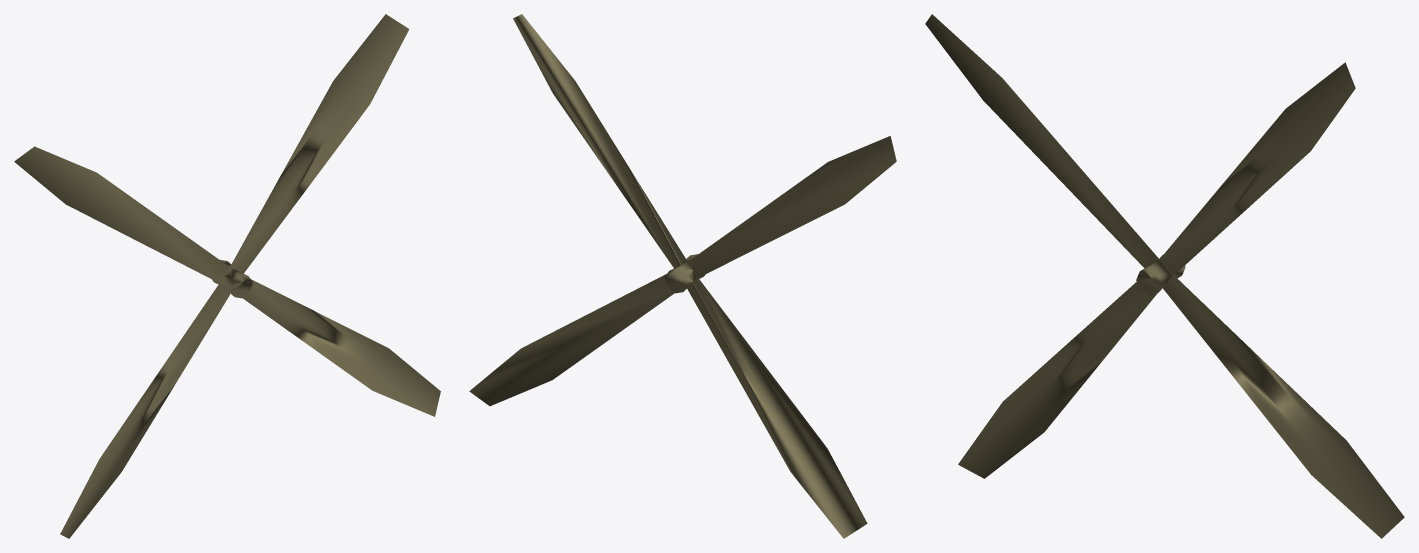
The model's file is gshc.hrc.gltf.
3 renders of one model, left to right at view 1: azimuth 30°, elevation 25°; view 2: azimuth 150°, elevation 25°; view 3: azimuth 330°, elevation 25°, orthographic. The views are drawn at different scales.
Visible parts, largest first — view 1: gshcBone0_null; view 2: gshcBone0_null; view 3: gshcBone0_null.
Part boxes in pixels (x1,y1,x2,y2): gshcBone0_null: (14, 14, 440, 538); gshcBone0_null: (469, 14, 896, 538); gshcBone0_null: (925, 14, 1404, 538).
Size of the model in its own units: 79.84 by 79.84 by 6.75.
